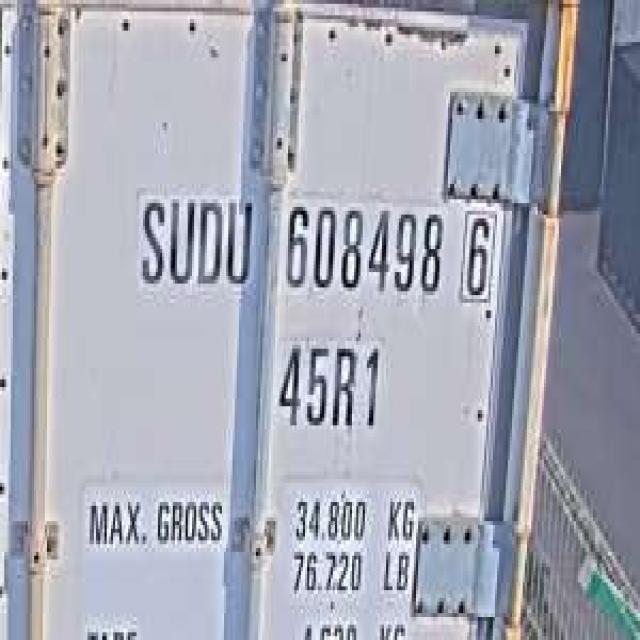dv: (454, 196, 500, 306)
owner: (132, 180, 256, 299)
serial: (277, 192, 446, 306)
size: (271, 330, 386, 440)
